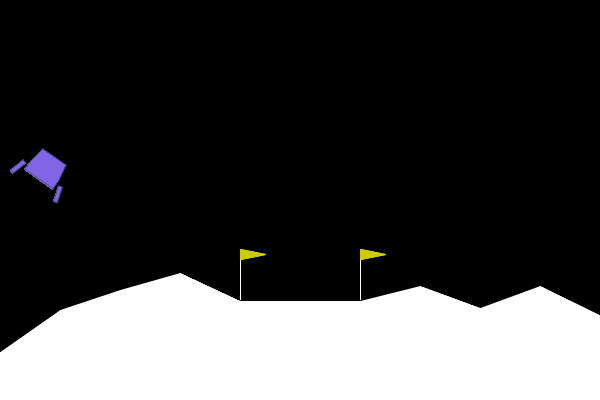lander: (8, 138, 80, 205)
